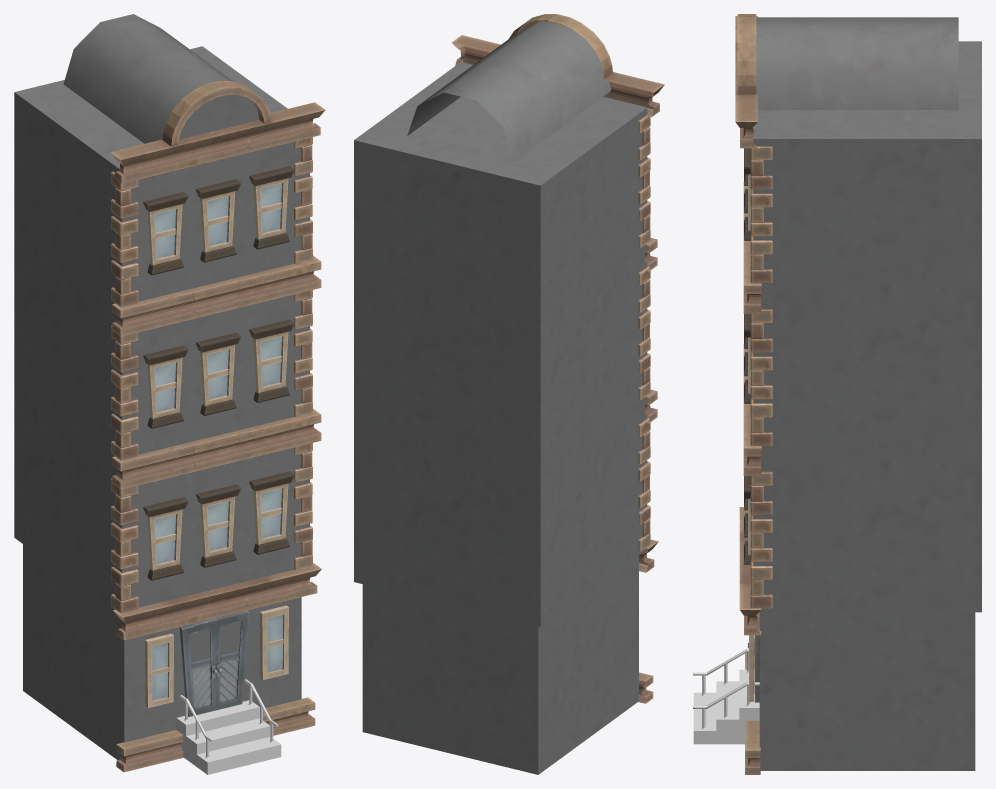
The model's file is Ev_Tallbuilding_5.fbx.
3 views of the same model, side by side, from view 1: azimuth 30°, elevation 25°; view 2: azimuth 150°, elevation 25°; view 3: azimuth 270°, elevation 25° (orthographic). The views are drawn at different scales.
Parts seen in each view (by area): view 1: Object068, Cylinder045, P_Frame_092, P_Frame_091, P_Frame_090, P_Frame_089, P_Doubledoor_006, stair2, P_Frame_088, Box886, Box884, Box882 (+15 smaller); view 2: Object068, Cylinder045, P_Frame_092, Box884, Box882, Box886, P_Frameupper_011; view 3: Object068, Cylinder045, stair2, Box887, Box885, Box883, P_Frameupper_011, P_Frame_089, P_Frame_092, P_Frame_091, P_Frame_090, P_Frame_088.
Part boxes in pixels (x1,y1,x2,y2): Object068: (14, 46, 309, 759); Cylinder045: (63, 14, 259, 143); P_Frame_092: (110, 102, 325, 183); P_Frame_091: (112, 255, 321, 336); P_Frame_090: (112, 408, 321, 489); P_Frame_089: (113, 562, 321, 640); P_Doubledoor_006: (179, 610, 249, 716); stair2: (176, 700, 281, 774); P_Frame_088: (116, 697, 315, 772); Box886: (111, 171, 138, 306); Box884: (111, 325, 138, 460); Box882: (111, 478, 138, 613); Object068: (354, 62, 647, 774); Cylinder045: (407, 20, 611, 161); P_Frame_092: (451, 35, 664, 117); Box884: (638, 265, 650, 400); Box882: (638, 417, 650, 552); Box886: (638, 116, 650, 248); P_Frameupper_011: (509, 14, 612, 78); Object068: (753, 41, 981, 770); Cylinder045: (756, 17, 958, 109); stair2: (693, 669, 759, 744); Box887: (750, 146, 772, 283); Box885: (750, 309, 772, 446); Box883: (750, 471, 772, 608); P_Frameupper_011: (737, 14, 756, 94); P_Frame_089: (739, 507, 761, 635); P_Frame_092: (735, 16, 757, 148); P_Frame_091: (743, 182, 761, 313); P_Frame_090: (743, 344, 761, 475); P_Frame_088: (745, 652, 760, 774).
Bounding box in the file's own units: 31.68 × 98 × 36.42.
